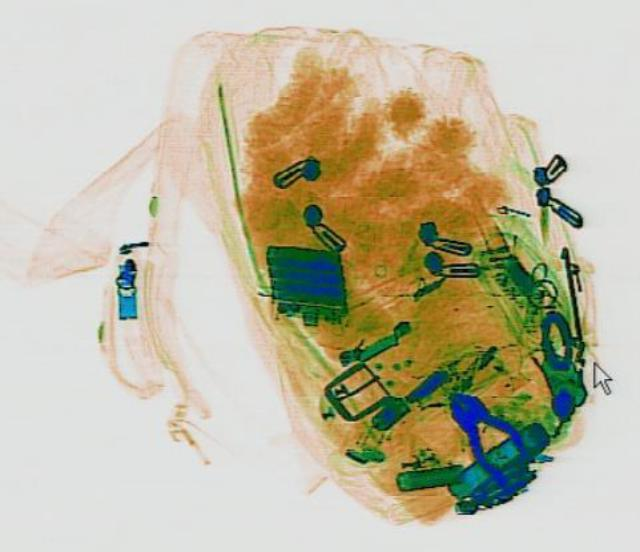Pliers: (426, 379, 550, 492)
